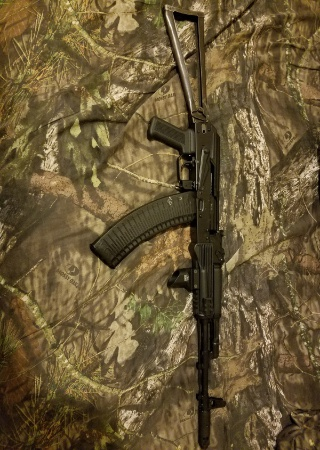rifle: (90, 4, 242, 450)
